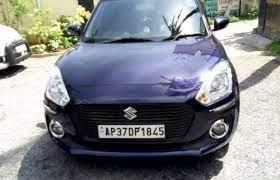Hatchback: (38, 0, 239, 165)
